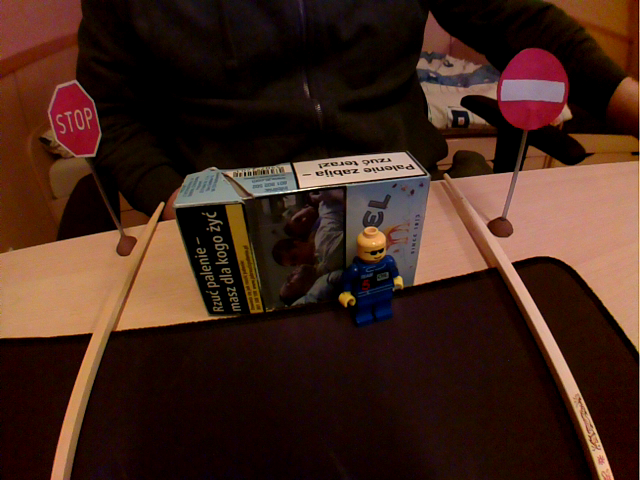Postac LEGO: (331, 223, 408, 331)
Stop: (42, 74, 107, 163)
Zakaz: (491, 44, 573, 133)
